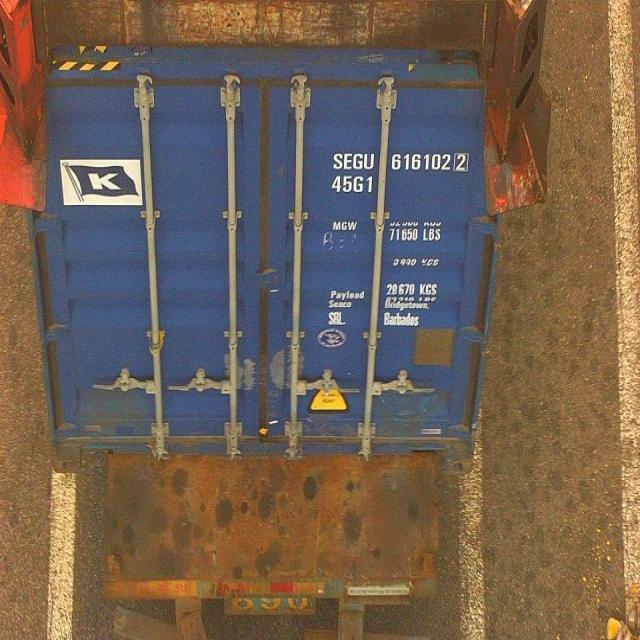ISO: (334, 176, 376, 198)
container_number: (330, 146, 470, 175)
